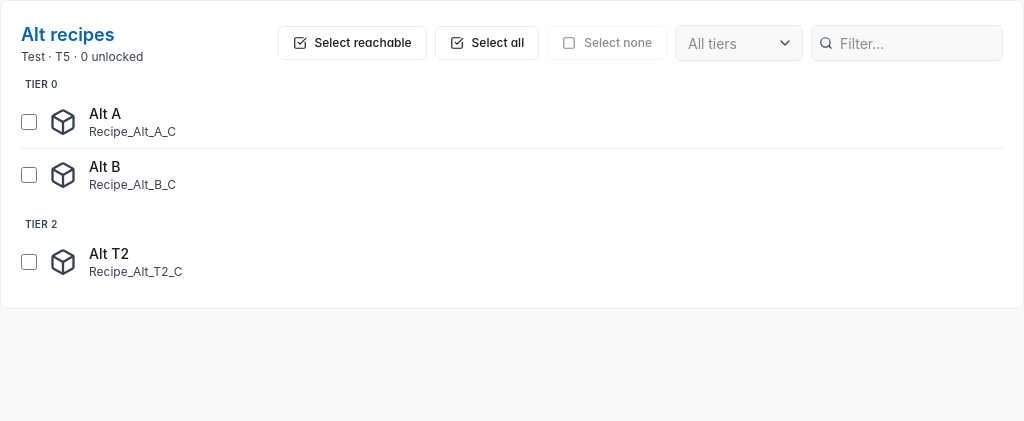
Test: AltsView tier filter › groups rows under a tier header and narrows to one tier when the tier filter is set (#71)
Expected: the text "Alt T2" is shown, [89,245,129,262]
Expected: the text "Tier 0" is shown, [25,77,58,92]
Click the dropdown named "filter alts by tier" at {"x": 739, "y": 43}, box [675,25,803,61]
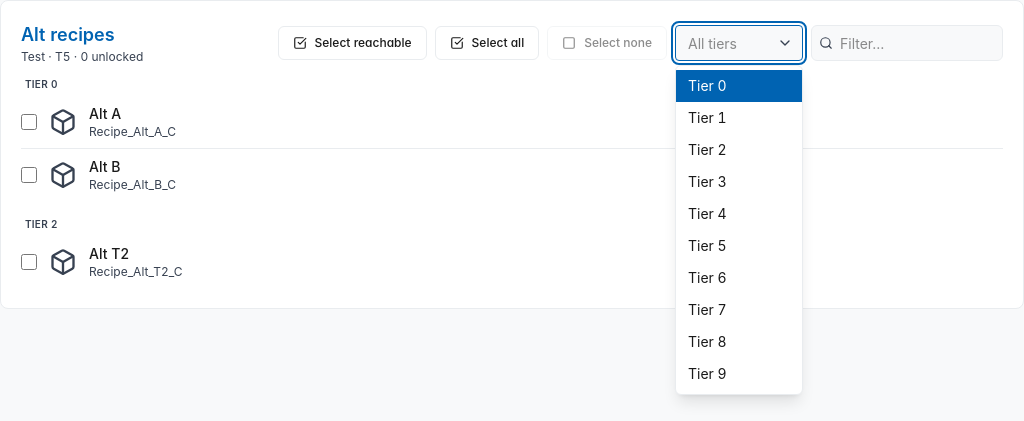
Click the option "Tier 2" at {"x": 707, "y": 150}, box [688,141,727,158]
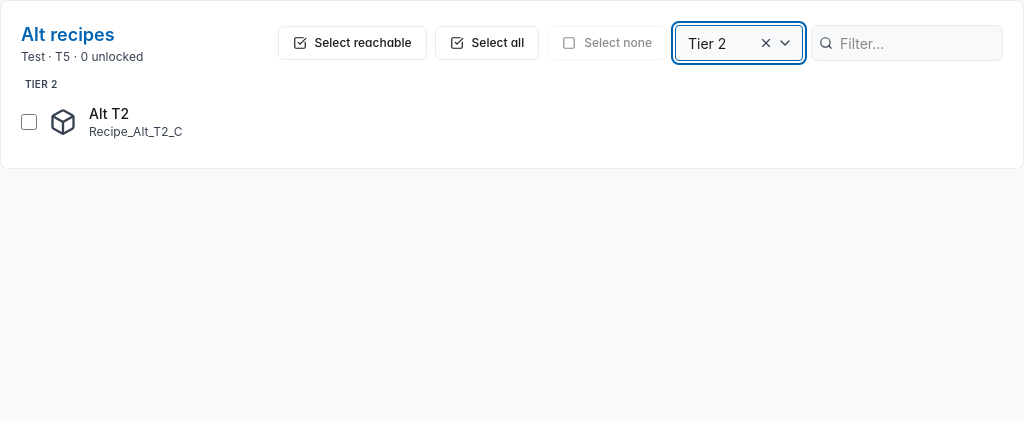
Now the text "Alt A" is gone
Now the text "Alt B" is gone
Now the text "Tier 0" is gone
